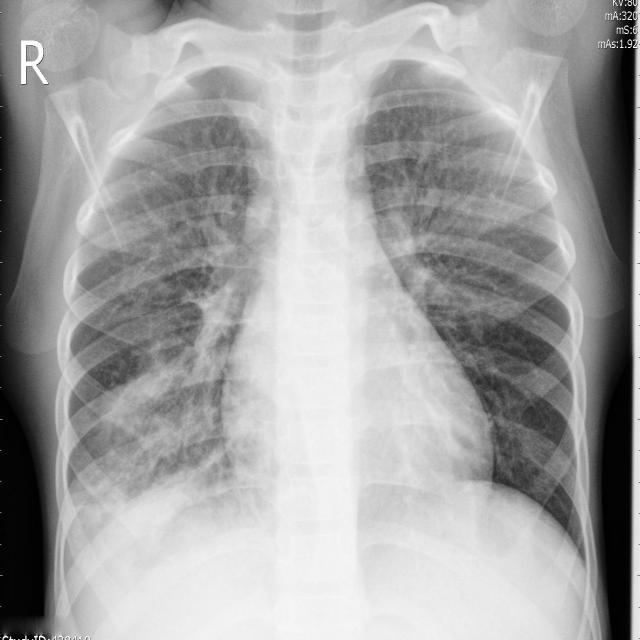low-pneumonia: (364, 147, 514, 333), (76, 345, 233, 495), (179, 191, 250, 360)
